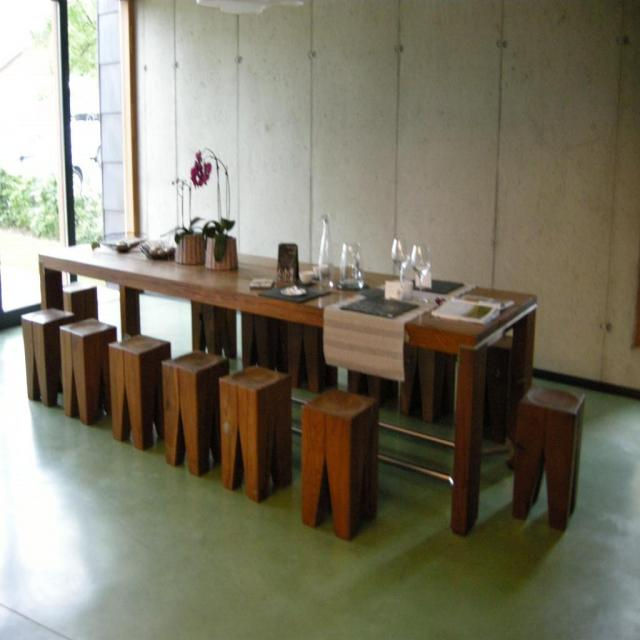table: (50, 271, 448, 484)
